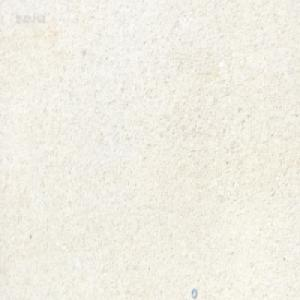Washer: (191, 287, 197, 299)
